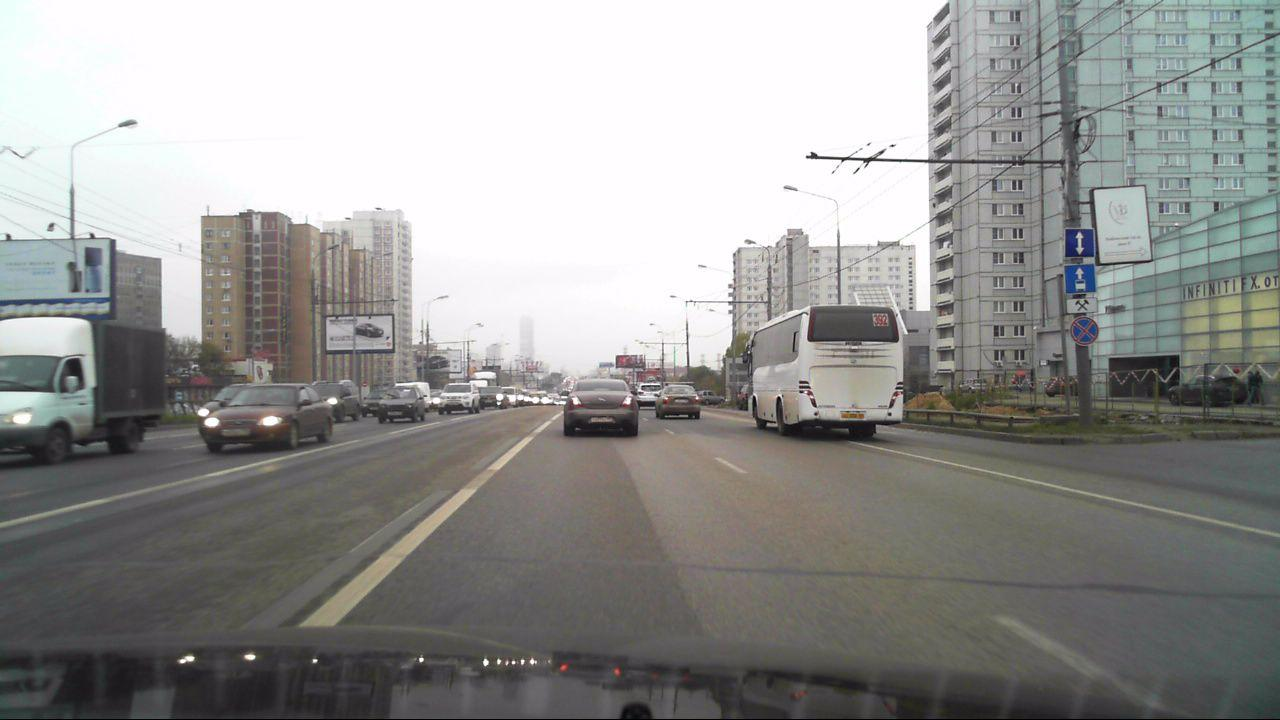3_27: (1070, 317, 1100, 345)
5_14_1: (1063, 265, 1098, 295)
5_8: (1065, 228, 1093, 257)
8_5_2: (1063, 297, 1099, 314)
